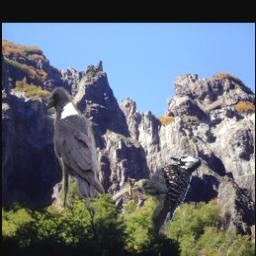Crow: (47, 86, 105, 208)
Sparrow: (123, 179, 150, 207)
Woodpecker: (141, 152, 203, 238)
